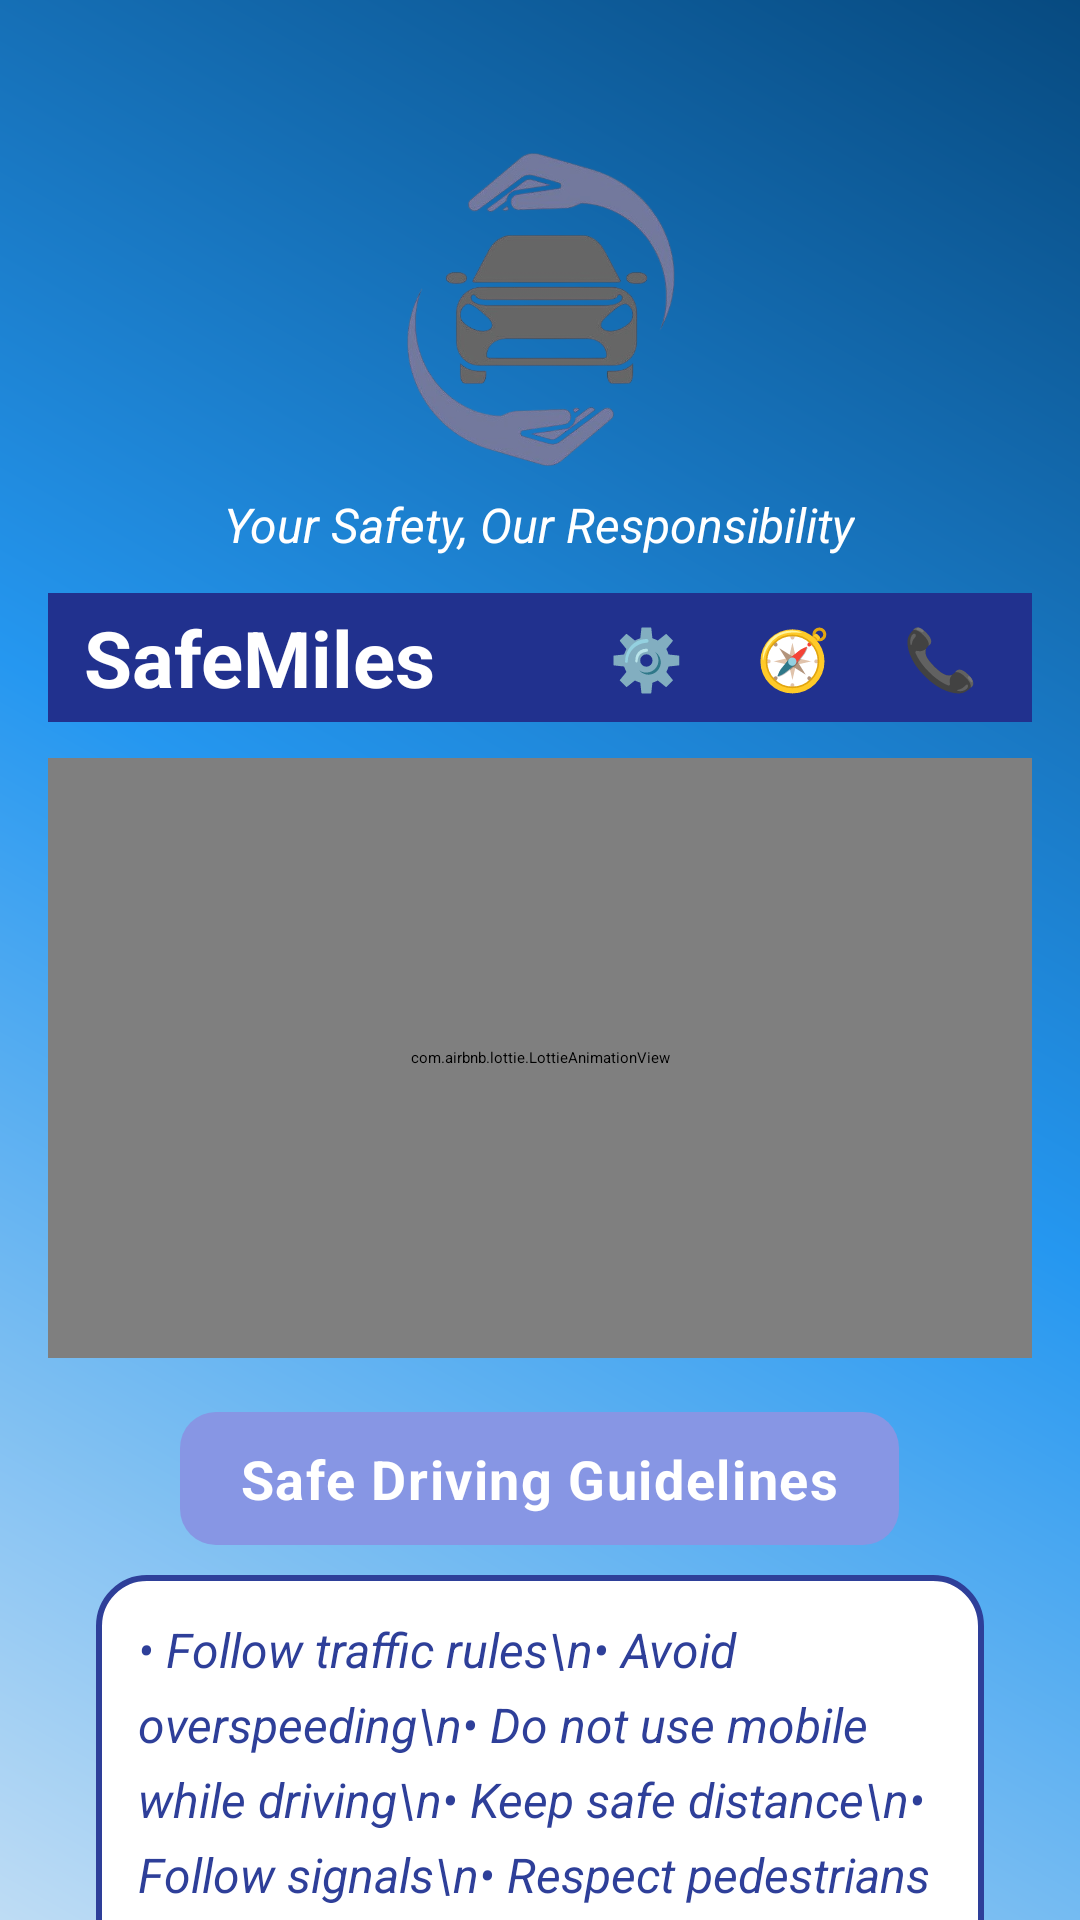

Where to tap for icons on this 1080×1920 app screen, as point (x, y):
App Icon: point (540, 303)
